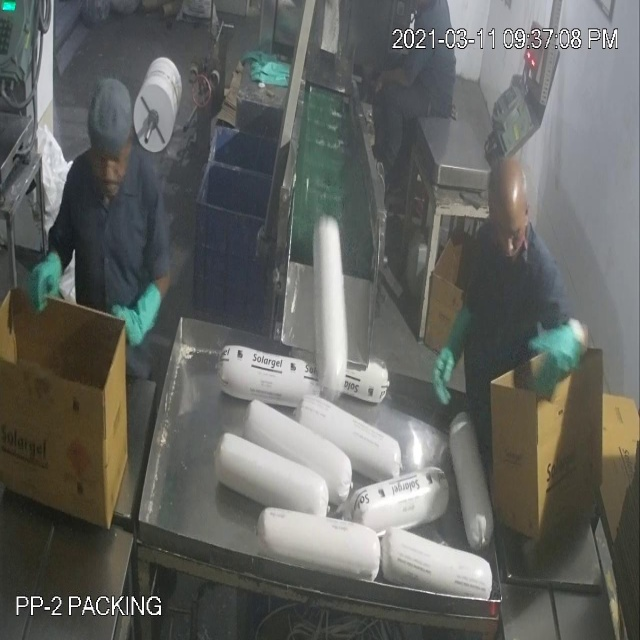Guantes: (518, 312, 588, 398), (105, 279, 170, 356), (434, 304, 470, 415), (23, 237, 66, 319)
